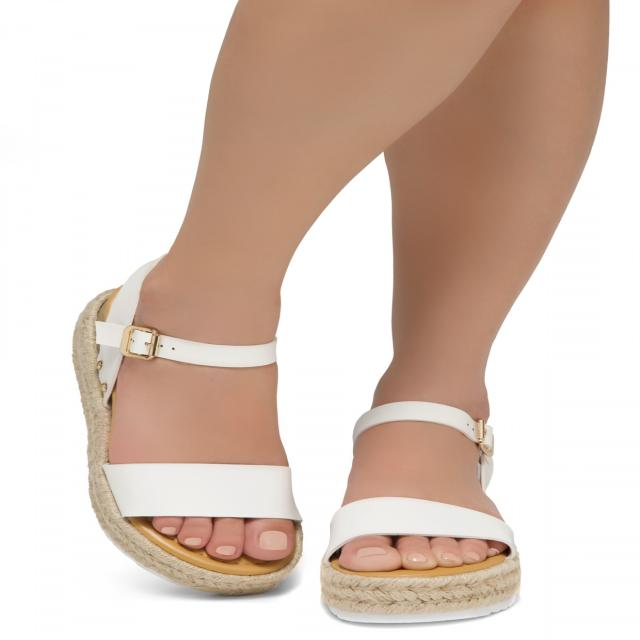Sandals: (62, 232, 310, 602), (318, 348, 537, 636)
